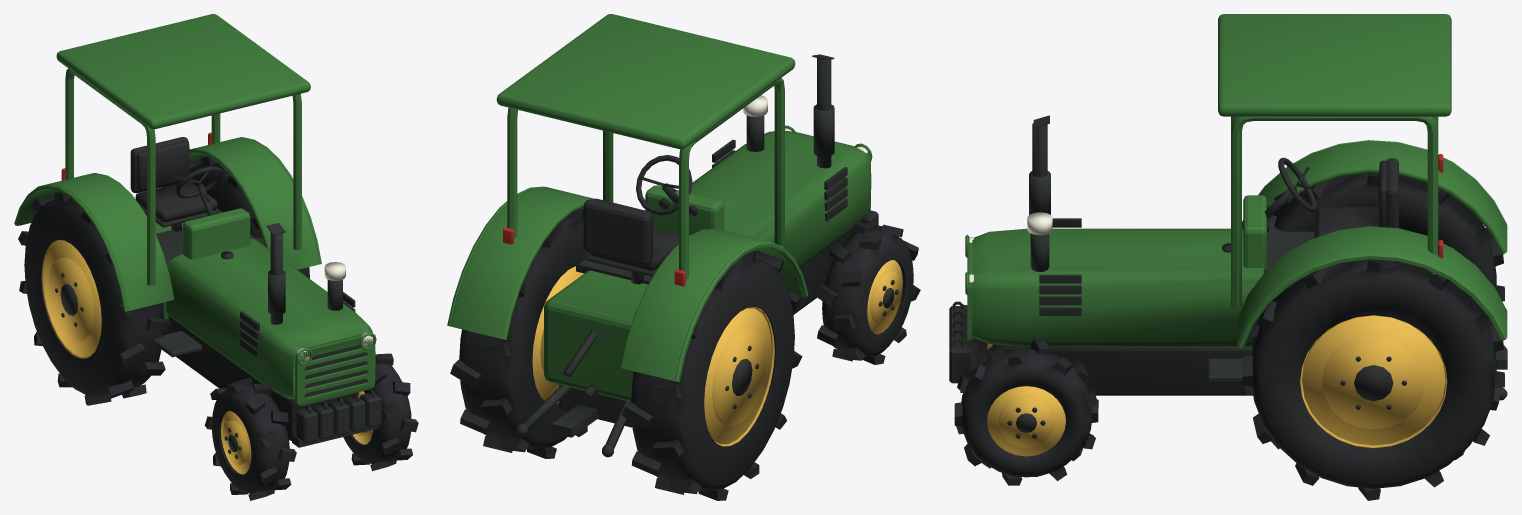
File: tractor.glb
3 renders of one model, left to right at view 1: azimuth 30°, elevation 25°; view 2: azimuth 150°, elevation 25°; view 3: azimuth 270°, elevation 25°, orthographic. The views are drawn at different scales.
Visible parts, largest first — view 1: tractor; view 2: tractor; view 3: tractor.
Boxes of the visible parts, x1=… form: tractor: x1=14, y1=14, x2=418, y2=500; tractor: x1=447, y1=14, x2=920, y2=500; tractor: x1=949, y1=14, x2=1507, y2=500.
Bounding box in the file's own units: 1.62 × 2.51 × 3.3.
